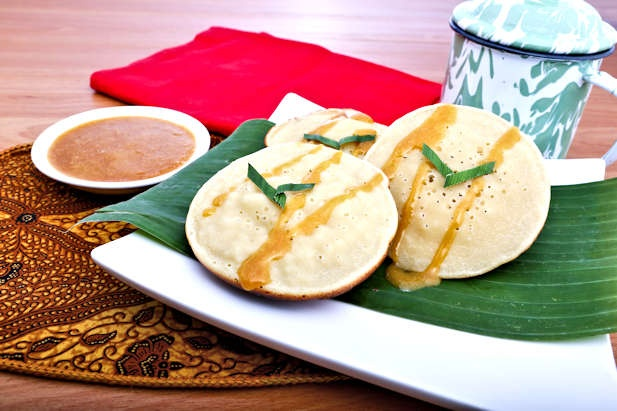srabi: (194, 141, 392, 299)
